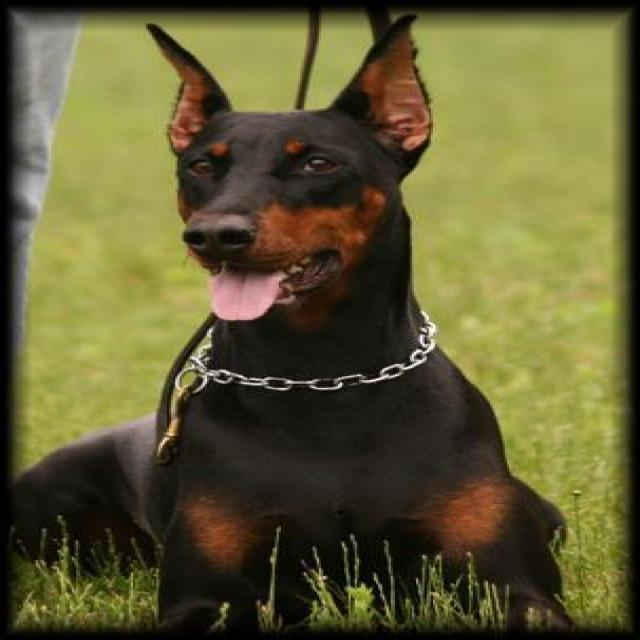adult_dog: (14, 17, 576, 632)
